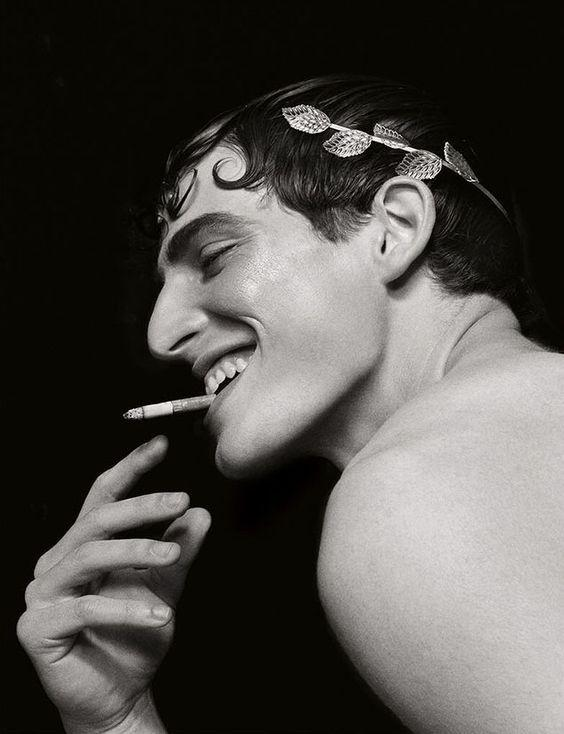cigarette: (123, 393, 216, 419)
